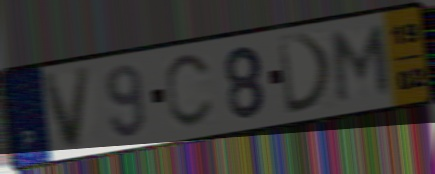8: (223, 43, 268, 122)
9: (103, 63, 147, 141)
C: (162, 50, 215, 132)
D: (275, 31, 336, 118)
M: (330, 22, 394, 107)
V: (39, 63, 95, 155)
